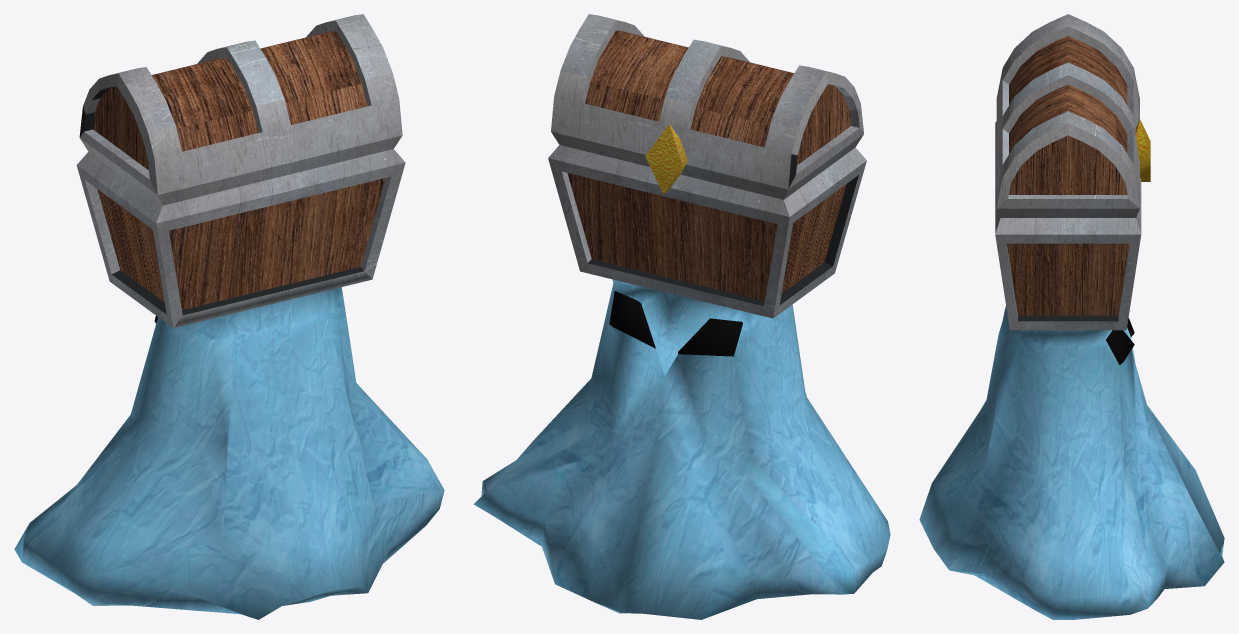
File: cofreenemigo.fbx
3 views of the same model, side by side, from view 1: azimuth 30°, elevation 25°; view 2: azimuth 150°, elevation 25°; view 3: azimuth 270°, elevation 25° (orthographic). The views are drawn at different scales.
Parts seen in each view (by area): view 1: Box001; view 2: Box001; view 3: Box001.
Part boxes in pixels (bbox=[...]): Box001: bbox=[14, 14, 444, 619]; Box001: bbox=[473, 14, 890, 619]; Box001: bbox=[919, 14, 1224, 619].
Bounding box in the file's own units: 2.65 × 1.98 × 3.47.
7 materials, 4 textured.
